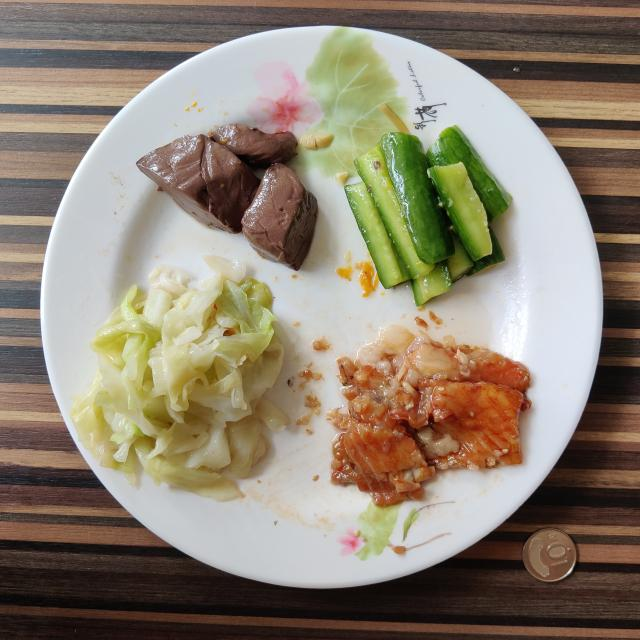Kabayaki sea bream fillet: (330, 326, 530, 506)
cabbage: (71, 260, 289, 500)
coin: (522, 529, 578, 582)
cucumber: (345, 126, 511, 305)
pig blood curd: (136, 124, 298, 232), (241, 164, 318, 270)
